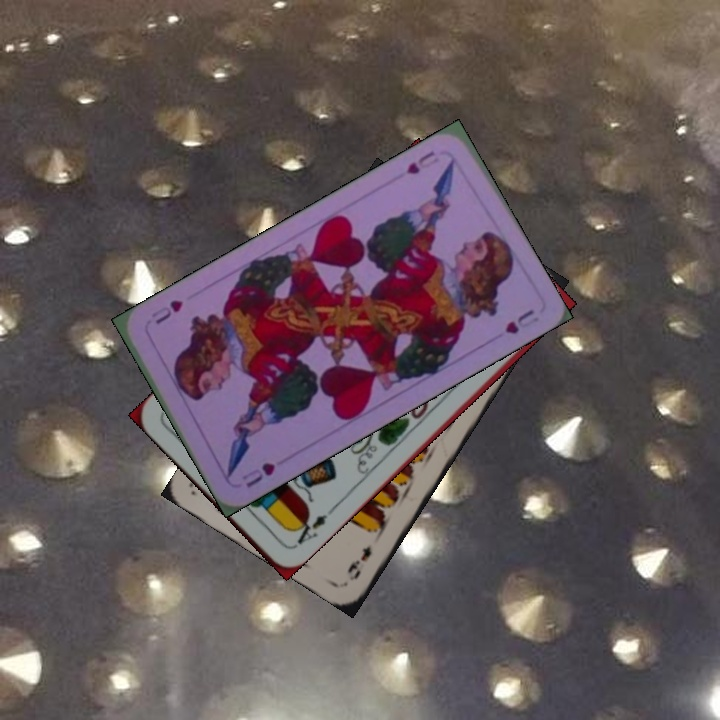E9: (343, 542, 375, 584)
EA: (287, 510, 330, 551)
HU: (237, 458, 278, 491), (402, 146, 441, 177)
